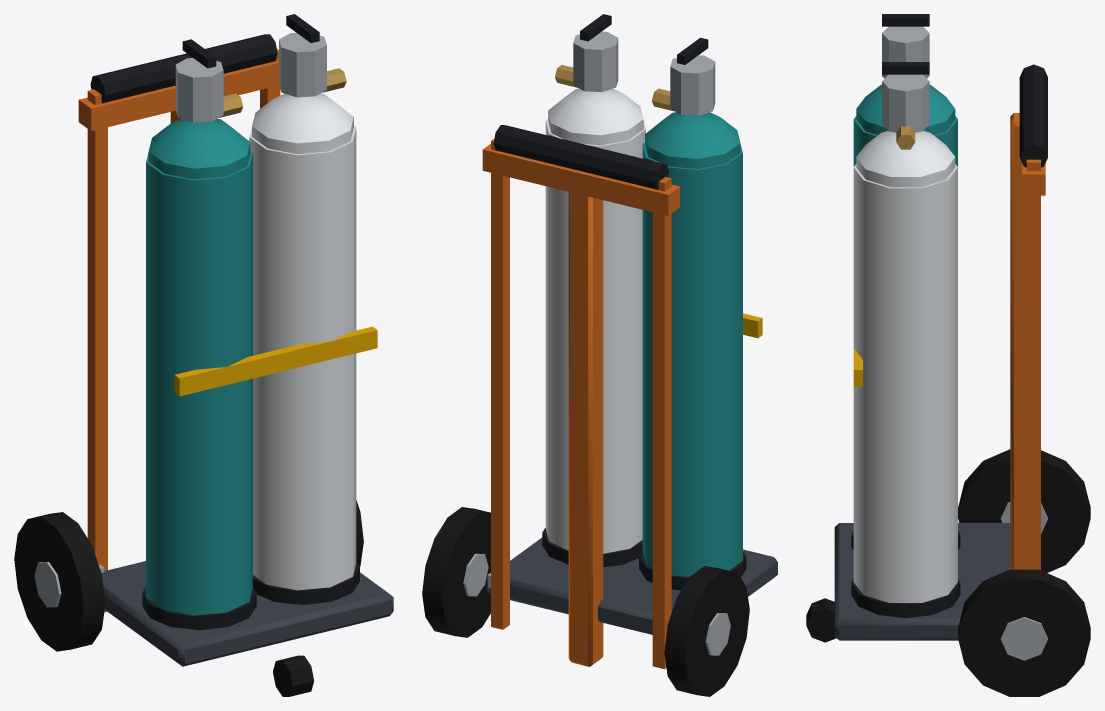
The model's file is barrel_gas_cylinder_trolley.glb.
The picture shows the model from 3 angles, left to right: view 1: azimuth 30°, elevation 25°; view 2: azimuth 150°, elevation 25°; view 3: azimuth 270°, elevation 25°; orthographic projection. The views are drawn at different scales.
Parts seen in each view (by area): view 1: barrel_gas_cylinder_trolley; view 2: barrel_gas_cylinder_trolley; view 3: barrel_gas_cylinder_trolley.
Part boxes in pixels (x1,y1,x2,y2): barrel_gas_cylinder_trolley: (14,14,393,696); barrel_gas_cylinder_trolley: (422,14,777,696); barrel_gas_cylinder_trolley: (806,14,1090,696).
Bounding box in the file's own units: 0.66 × 1.39 × 0.6.
